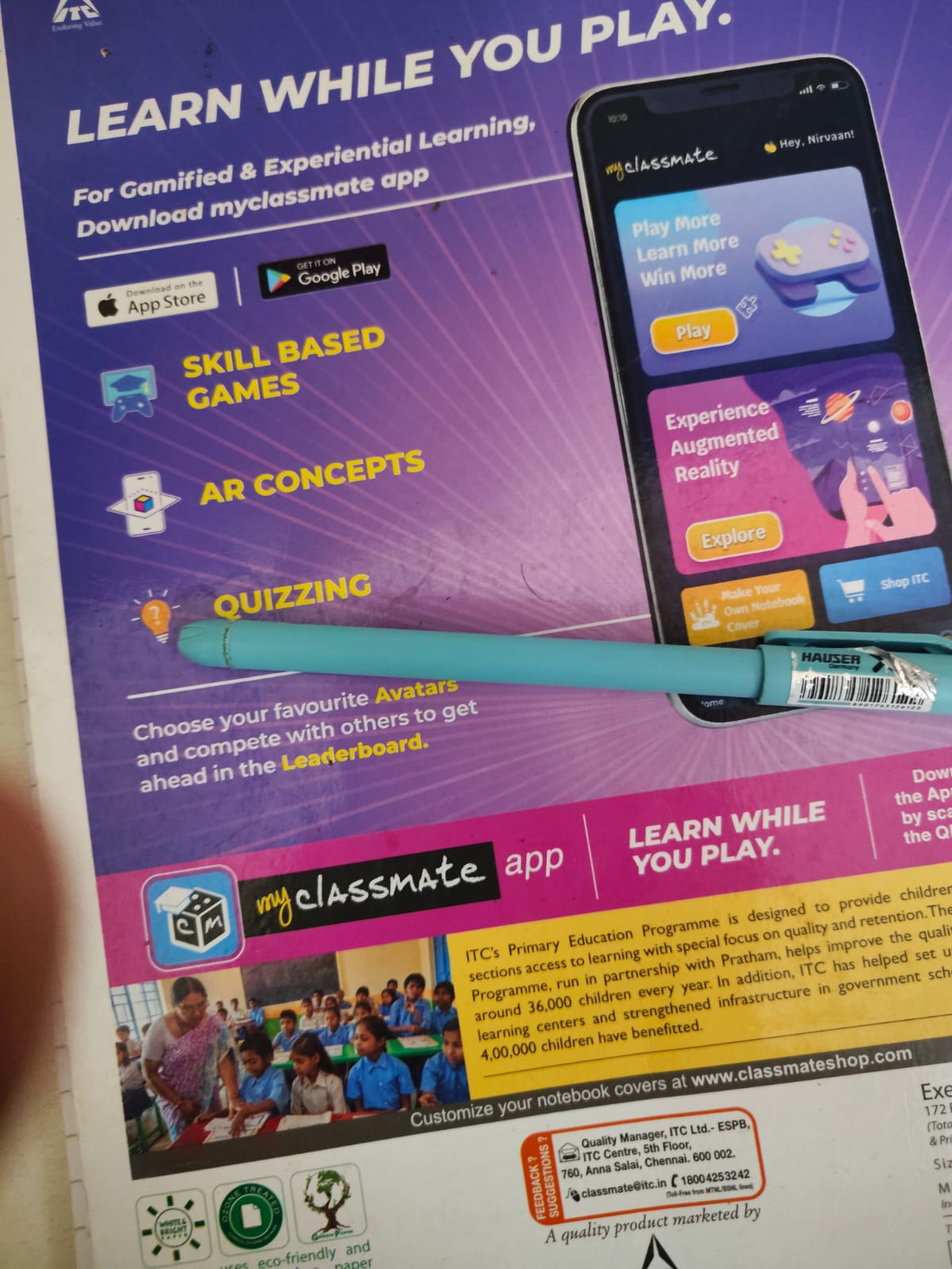pen: (170, 588, 946, 741)
